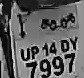1: (40, 41, 50, 58)
4: (48, 39, 57, 56)
7: (63, 51, 78, 74), (24, 60, 38, 78)
9: (51, 54, 66, 77), (38, 58, 52, 78)
D: (58, 37, 71, 54)
P: (30, 43, 40, 61)
U: (18, 45, 32, 63)
Y: (68, 35, 81, 54)
